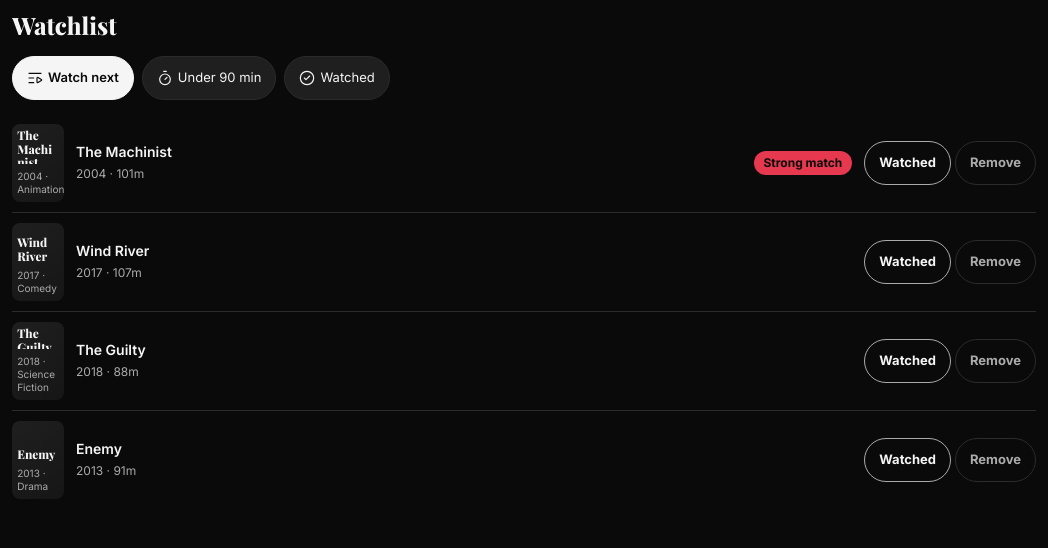
it: Watchlist › puts a row back when marking it watched fails
Expected: the link "The Machinist" is shown, [76,143,172,160]
Click the button "Watched" in the row of "The Machinist" at (908, 163), box [864,141,951,185]
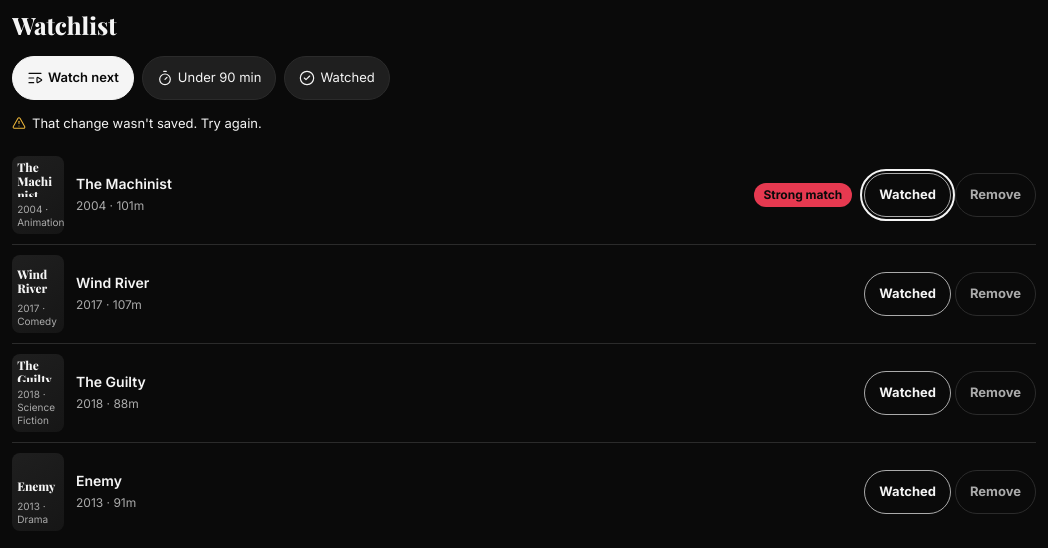
Expected: the link "The Machinist" is shown, [76,175,172,192]
Result: the message shows "That change wasn't saved." at [32,115,262,131]
